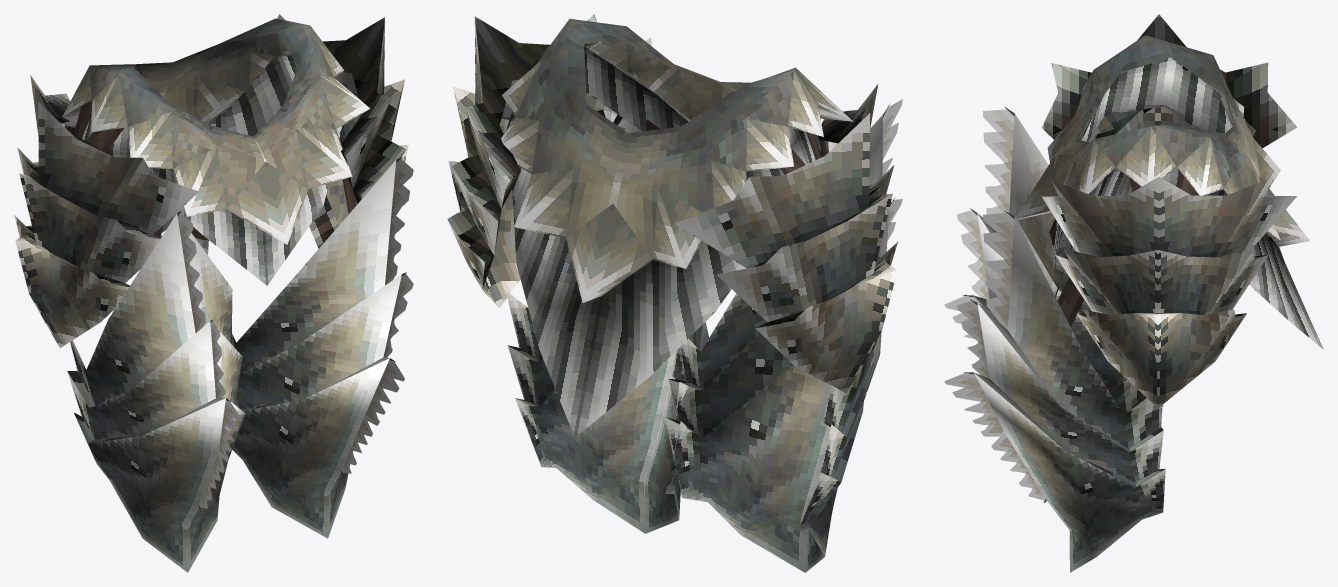
File: m_wst290.glb
The picture shows the model from 3 angles, left to right: view 1: azimuth 30°, elevation 25°; view 2: azimuth 150°, elevation 25°; view 3: azimuth 270°, elevation 25°; orthographic projection. The views are drawn at different scales.
Parts seen in each view (by area): view 1: player/m/wst/m_wst290.pac; view 2: player/m/wst/m_wst290.pac; view 3: player/m/wst/m_wst290.pac.
Part boxes in pixels (x1=…): player/m/wst/m_wst290.pac: x1=14, y1=14, x2=413, y2=572; player/m/wst/m_wst290.pac: x1=447, y1=14, x2=902, y2=572; player/m/wst/m_wst290.pac: x1=944, y1=14, x2=1323, y2=572.
Size of the model in its own units: 63.98 by 74 by 56.56.
2 materials, 2 textured.
